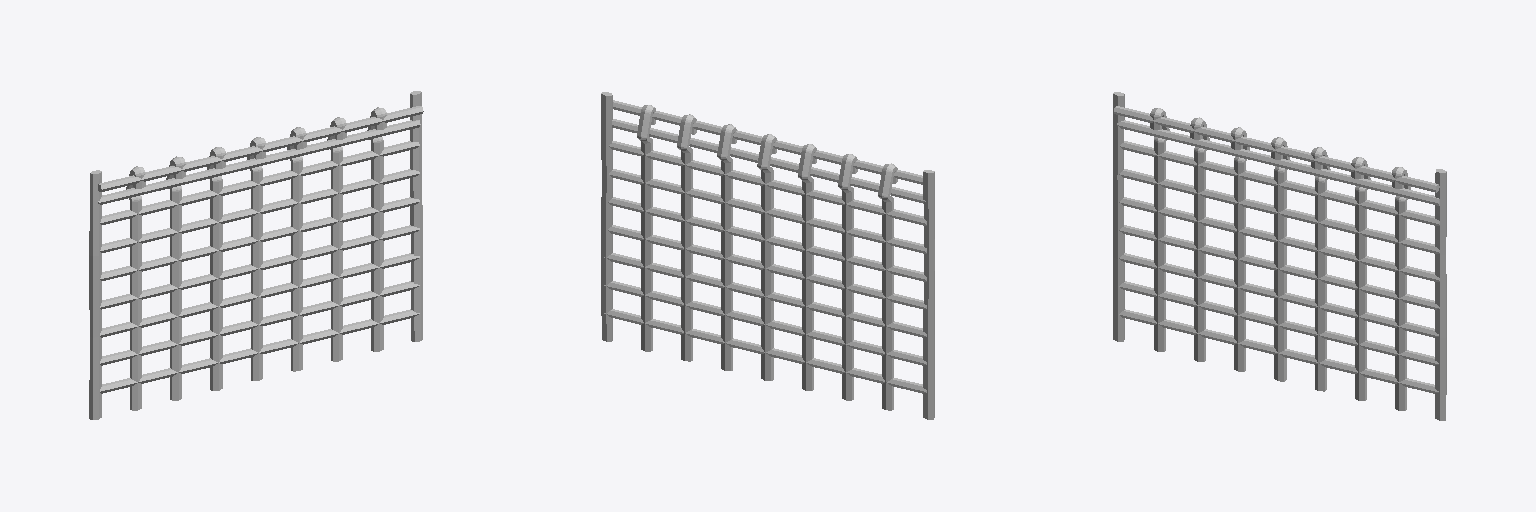
The model's file is fence.obj.
3 renders of one model, left to right at view 1: azimuth 30°, elevation 25°; view 2: azimuth 150°, elevation 25°; view 3: azimuth 330°, elevation 25°, orthographic.
Visible parts, largest first — view 1: fence; view 2: fence; view 3: fence.
Part boxes in pixels (x1,y1,x2,y2): fence: (89, 91, 423, 419); fence: (601, 92, 934, 419); fence: (1113, 92, 1446, 420).
Size of the model in its own units: 3.11 by 2.2 by 0.1963.